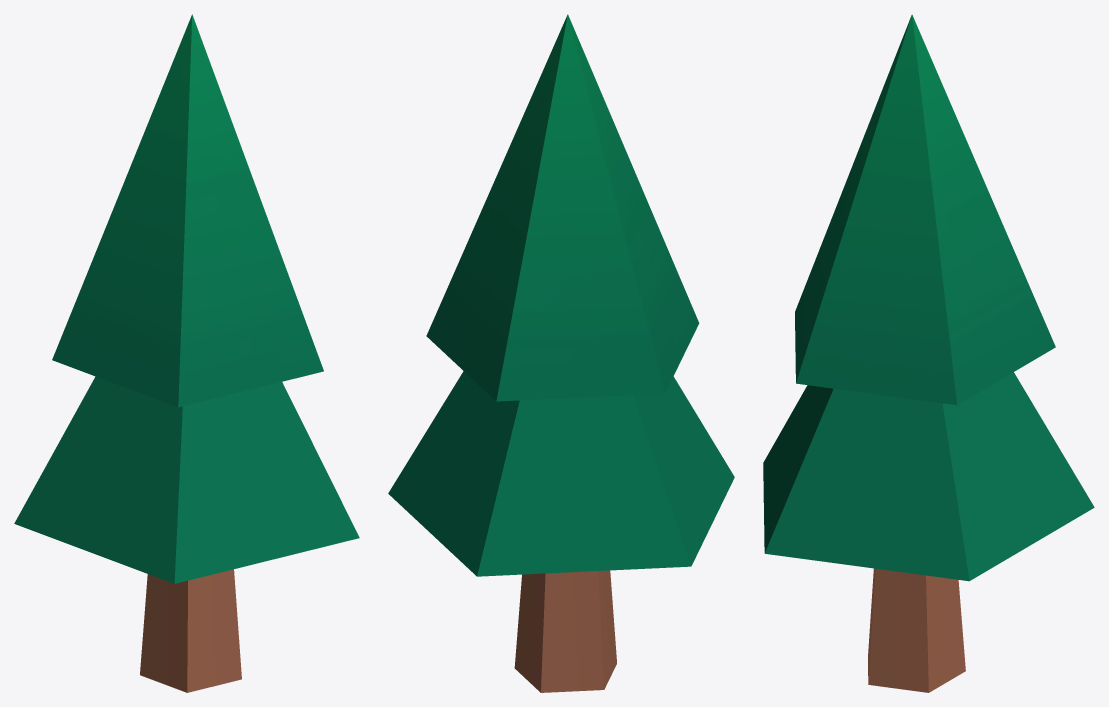
Rendered from tree.glb.
The picture shows the model from 3 angles, left to right: view 1: azimuth 30°, elevation 25°; view 2: azimuth 150°, elevation 25°; view 3: azimuth 270°, elevation 25°; orthographic projection.
Parts seen in each view (by area): view 1: tree; view 2: tree; view 3: tree.
Boxes of the visible parts, <box> form: tree: <box>14,14,359,692</box>; tree: <box>388,14,734,692</box>; tree: <box>763,14,1094,692</box>.
Bounding box in the file's own units: 1.45 × 3.03 × 1.38.
1 material, 1 textured.
